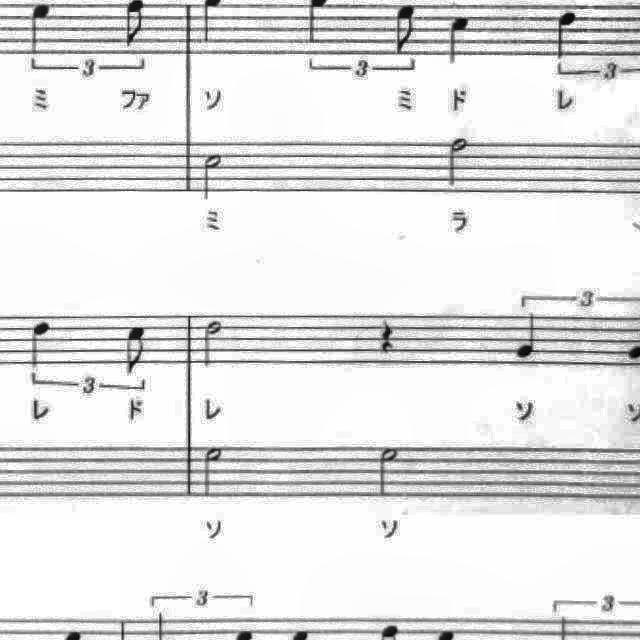Eighth-note: (386, 0, 424, 60), (121, 320, 155, 380)
Half-note: (440, 131, 476, 195), (369, 440, 406, 500), (196, 147, 232, 206), (198, 440, 230, 500), (198, 315, 228, 373)
Quarter-note: (20, 1, 60, 64), (440, 8, 478, 72), (550, 5, 586, 68), (509, 308, 547, 366), (23, 315, 57, 373)
Quarter-rest: (369, 314, 399, 361)
